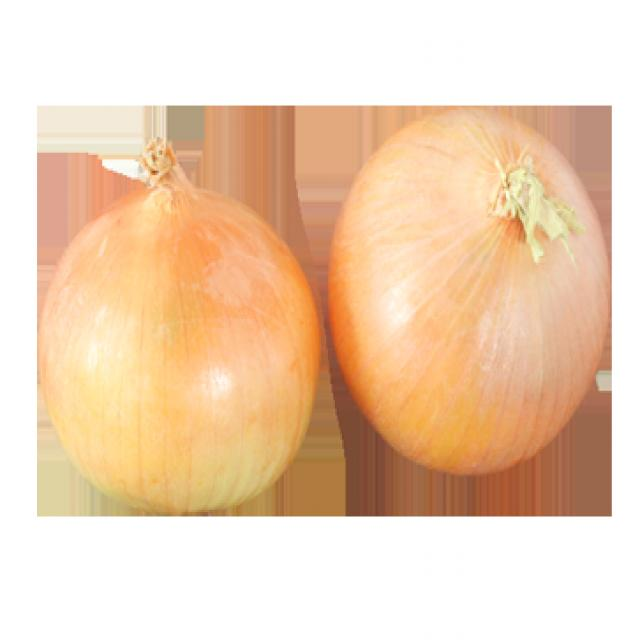onion: (320, 98, 616, 481), (32, 152, 323, 519)
